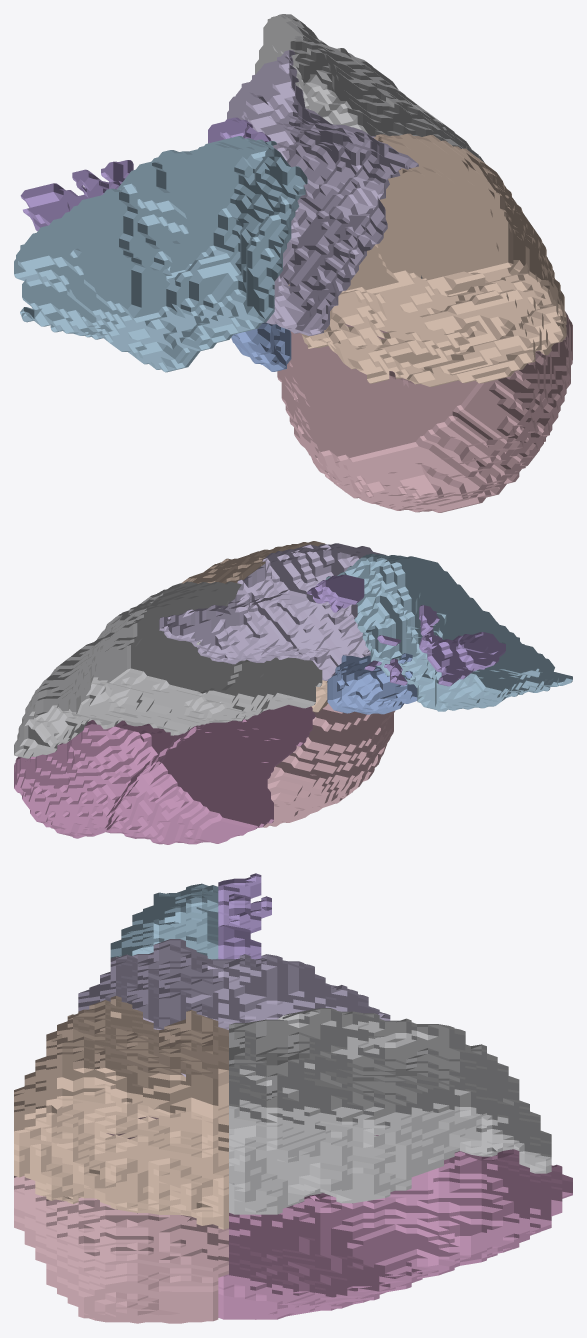
File: mri_segments.glb
3 renders of one model, top to bottom at view 1: azimuth 30°, elevation 25°; view 2: azimuth 150°, elevation 25°; view 3: azimuth 270°, elevation 25°, orthographic. The views are drawn at different scales.
Parts seen in each view (by area): view 1: Segment_2, Segment_8, Segment_7, Segment_4, Segment_5, Segment_3, Segment_1; view 2: Segment_6, Segment_5, Segment_2, Segment_4, Segment_7, Segment_3, Segment_1, Segment_8; view 3: Segment_5, Segment_8, Segment_6, Segment_7, Segment_4, Segment_2, Segment_3.
Part boxes in pixels (left/top/right/bottom): Segment_2: left=14, top=136, right=307, bottom=372; Segment_8: left=288, top=133, right=566, bottom=386; Segment_7: left=277, top=311, right=572, bottom=512; Segment_4: left=227, top=50, right=418, bottom=335; Segment_5: left=255, top=14, right=484, bottom=278; Segment_3: left=20, top=117, right=271, bottom=231; Segment_1: left=231, top=322, right=291, bottom=371; Segment_6: left=14, top=705, right=315, bottom=844; Segment_5: left=14, top=581, right=322, bottom=758; Segment_2: left=325, top=553, right=572, bottom=711; Segment_4: left=159, top=543, right=385, bottom=680; Segment_7: left=263, top=703, right=394, bottom=827; Segment_3: left=306, top=574, right=505, bottom=686; Segment_1: left=327, top=653, right=417, bottom=714; Segment_8: left=181, top=541, right=327, bottom=712; Segment_5: left=229, top=1008, right=551, bottom=1214; Segment_8: left=14, top=996, right=228, bottom=1229; Segment_6: left=218, top=1135, right=572, bottom=1319; Segment_7: left=14, top=1116, right=228, bottom=1323; Segment_4: left=78, top=939, right=390, bottom=1076; Segment_2: left=110, top=883, right=218, bottom=959; Segment_3: left=218, top=873, right=271, bottom=959.
Size of the model in its own units: 202 by 134 by 208.
